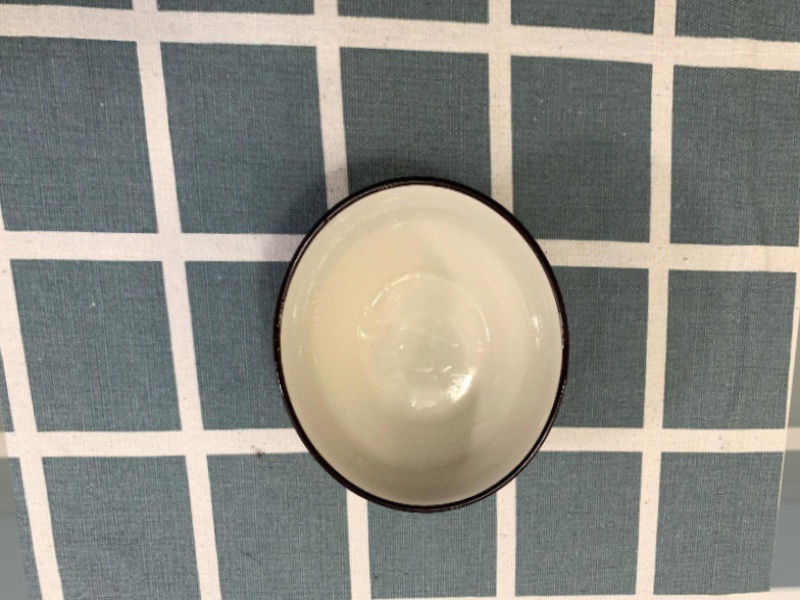bowl_small: (251, 158, 583, 522)
